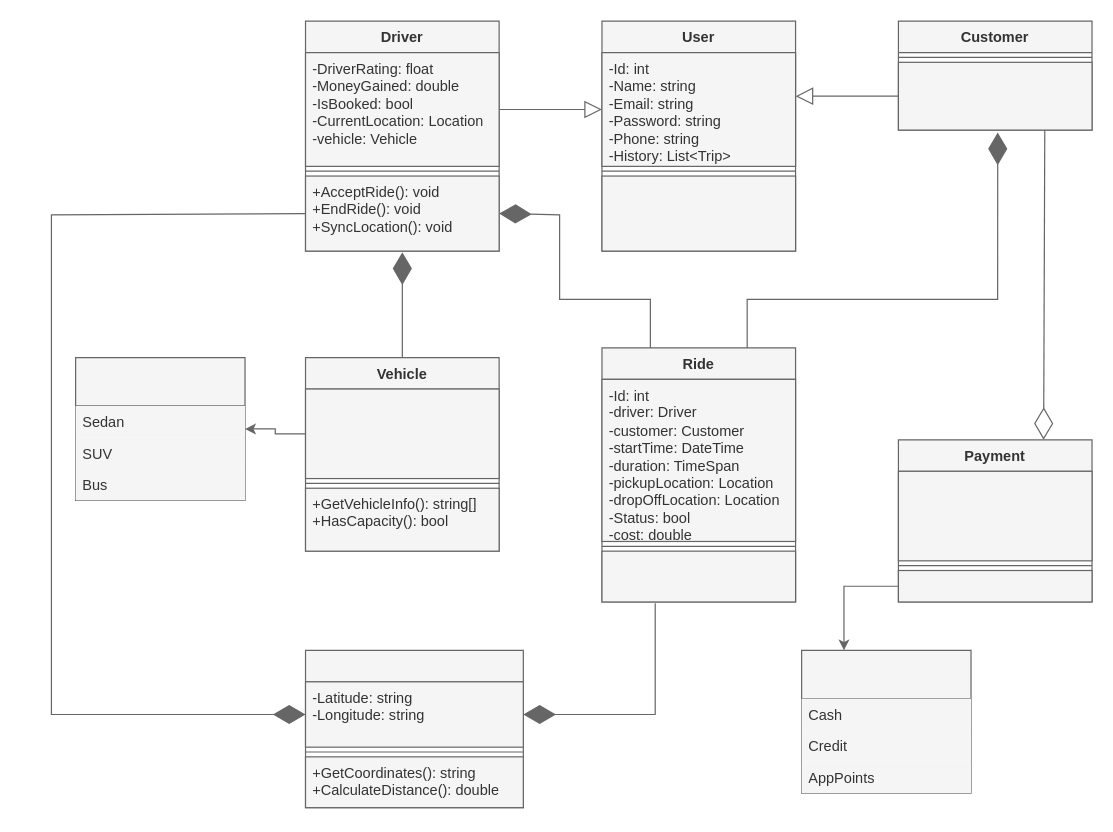
The diagram is 1113 pixels wide and 832 high, and some of its shapes have lost their labels. The shapes that lost their labels are listed below. From the top down, each one's box as (x1, y1, x2, y2) in pixels, then its label:
(897, 61, 1092, 130): +BookRide(): void +RateRide(): void +CancelRide(): void
(601, 175, 796, 251): +Login(): void +Logout(): void +EditInfo(): void
(74, 356, 245, 500): <<Enumerator>> CarType
(304, 388, 499, 479): -Id: int -driver: Driver -capacity: int -type: CarType
(897, 470, 1092, 561): -Id: int -method: PaymentMethod -driver: Driver -customer: Customer
(601, 550, 796, 602): +StartRide(): void +EndRide(): void
(897, 569, 1092, 602): +ProcessPayment(): void
(304, 649, 523, 808): Location
(800, 649, 971, 793): <<Enumerator>> PaymentMethod
